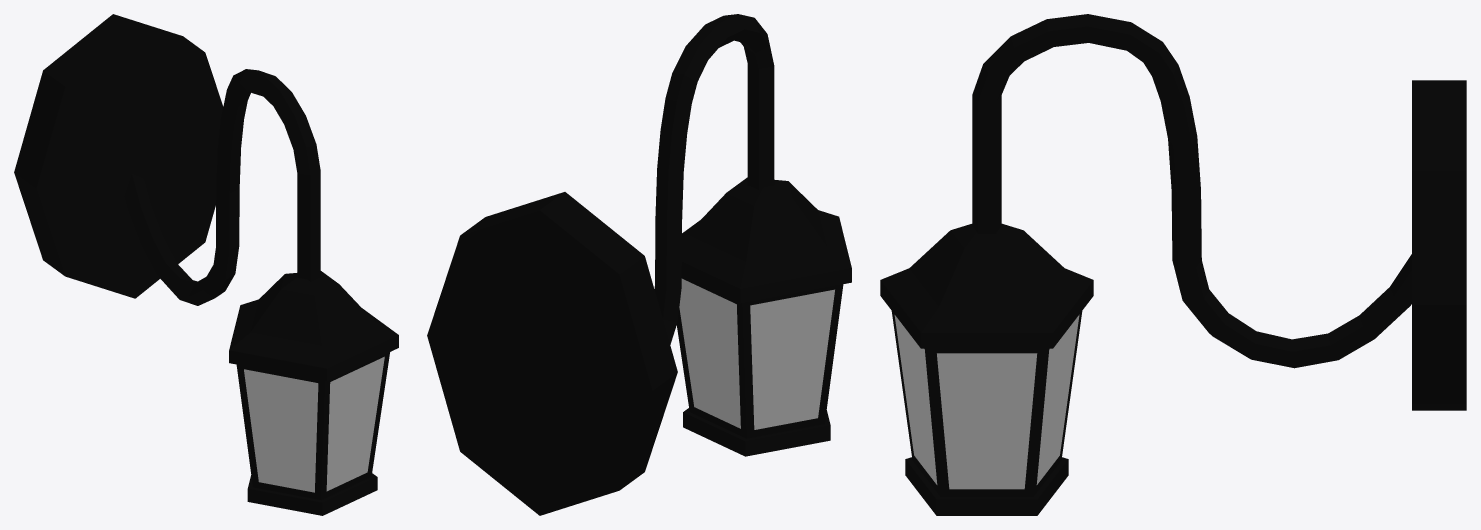
The model's file is StreetLampWall_On.glb.
The picture shows the model from 3 angles, left to right: view 1: azimuth 30°, elevation 25°; view 2: azimuth 150°, elevation 25°; view 3: azimuth 270°, elevation 25°; orthographic projection. The views are drawn at different scales.
Visible parts, largest first — view 1: streetWallLamp_On; view 2: streetWallLamp_On; view 3: streetWallLamp_On.
Boxes of the visible parts, x1=… form: streetWallLamp_On: x1=14, y1=14, x2=398, y2=515; streetWallLamp_On: x1=427, y1=14, x2=851, y2=515; streetWallLamp_On: x1=880, y1=14, x2=1466, y2=515.
Bounding box in the file's own units: 0.2383 × 0.44 × 0.4968.
Materials: 1 (1 with a texture image).
